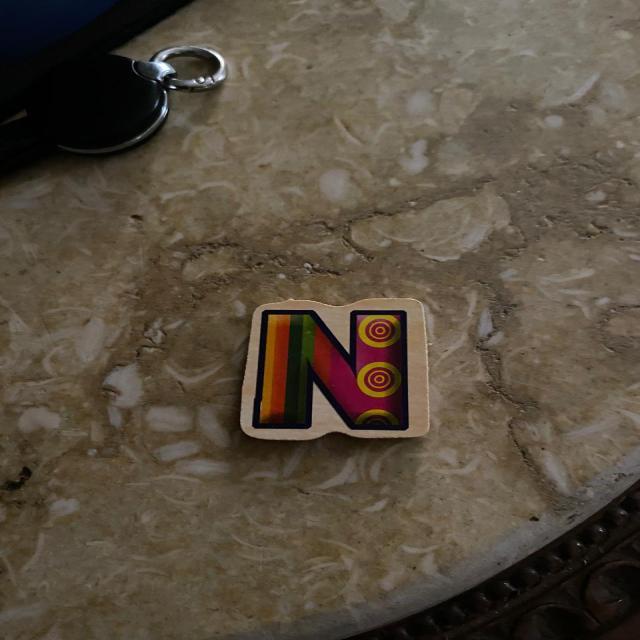N: (241, 298, 429, 440)
